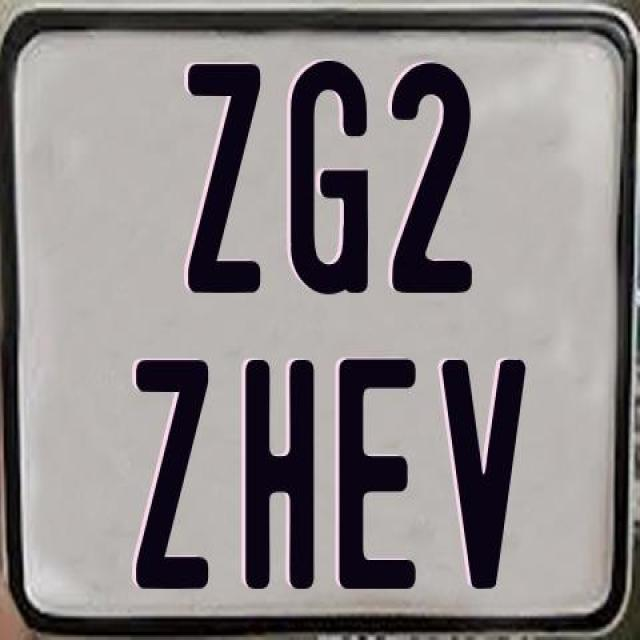2: (388, 61, 475, 301)
E: (336, 353, 414, 592)
G: (288, 61, 367, 301)
H: (241, 360, 315, 597)
V: (441, 356, 528, 588)
Z: (184, 59, 260, 288), (132, 360, 207, 589)
